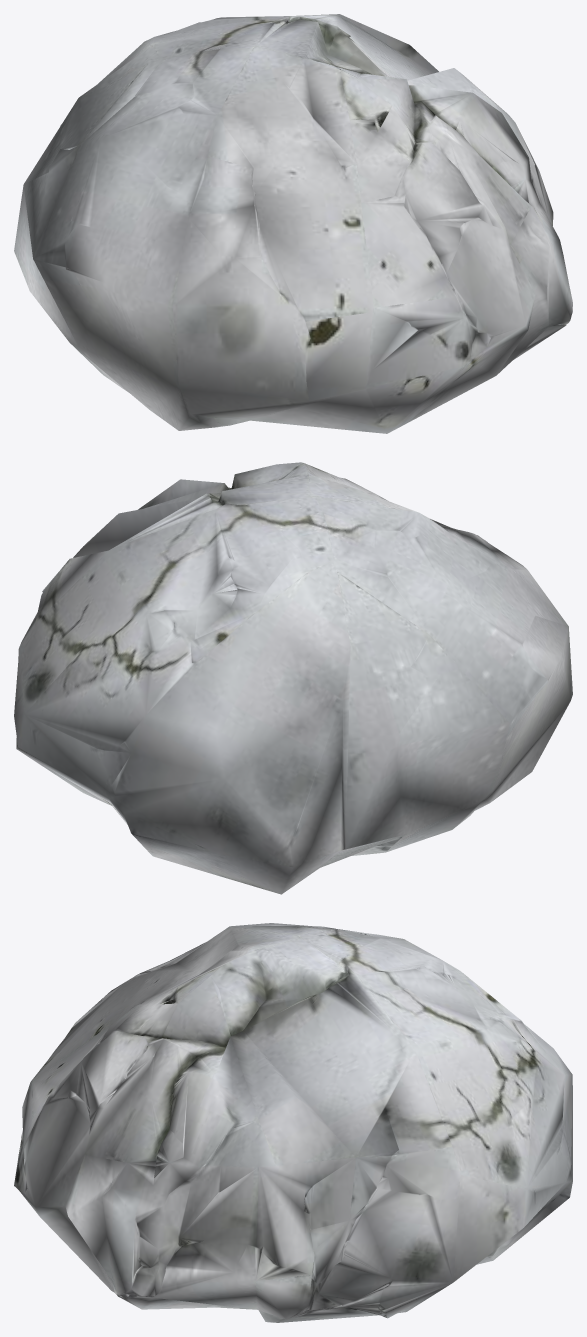
File: rock_boulder.glb
The picture shows the model from 3 angles, top to bottom: view 1: azimuth 30°, elevation 25°; view 2: azimuth 150°, elevation 25°; view 3: azimuth 270°, elevation 25°; orthographic projection. The views are drawn at different scales.
Size of the model in its own units: 1.76 by 1.09 by 1.86.
1 material, 1 textured.
